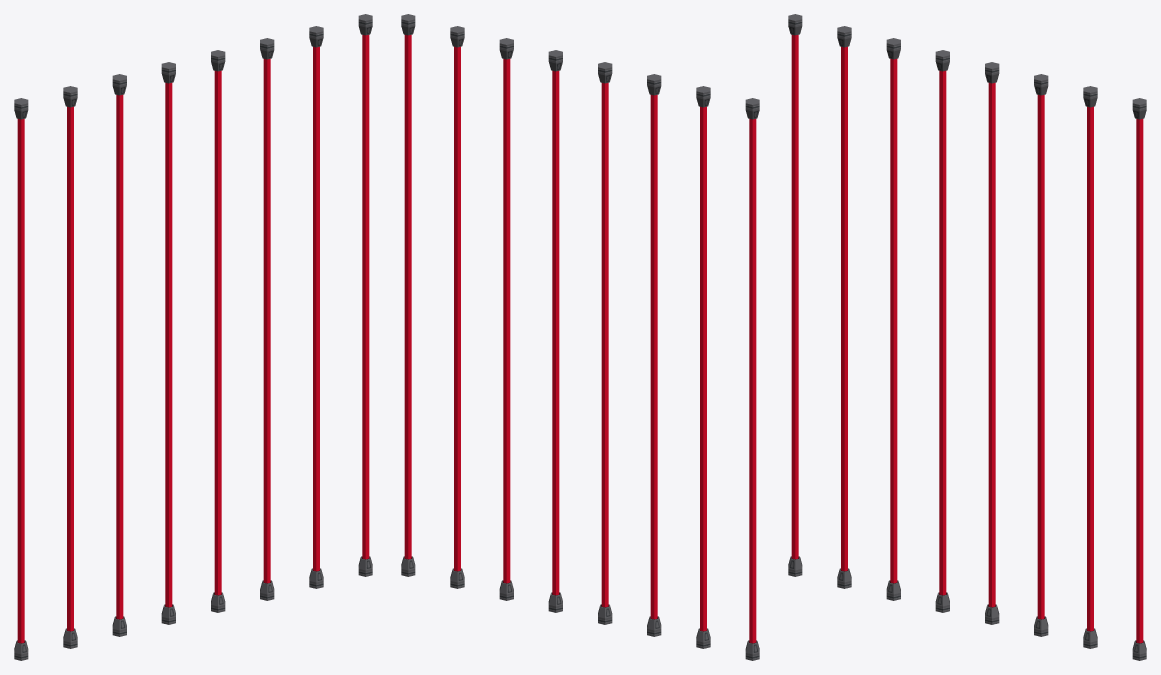
The model's file is SM_Bld_Wall_Laser_01.fbx.
3 views of the same model, side by side, from view 1: azimuth 30°, elevation 25°; view 2: azimuth 150°, elevation 25°; view 3: azimuth 330°, elevation 25° (orthographic).
Parts seen in each view (by area): view 1: SM_Bld_Wall_Laser_Beams_01, SM_Bld_Wall_Laser_01; view 2: SM_Bld_Wall_Laser_Beams_01, SM_Bld_Wall_Laser_01; view 3: SM_Bld_Wall_Laser_Beams_01, SM_Bld_Wall_Laser_01.
Boxes of the visible parts, left/top/right/bottom form: SM_Bld_Wall_Laser_Beams_01: left=17, top=35, right=369, bottom=643; SM_Bld_Wall_Laser_01: left=14, top=14, right=372, bottom=660; SM_Bld_Wall_Laser_Beams_01: left=404, top=35, right=756, bottom=643; SM_Bld_Wall_Laser_01: left=401, top=14, right=759, bottom=660; SM_Bld_Wall_Laser_Beams_01: left=791, top=35, right=1143, bottom=643; SM_Bld_Wall_Laser_01: left=788, top=14, right=1146, bottom=660.
Bounding box in the file's own units: 203 × 300 × 6.99.
